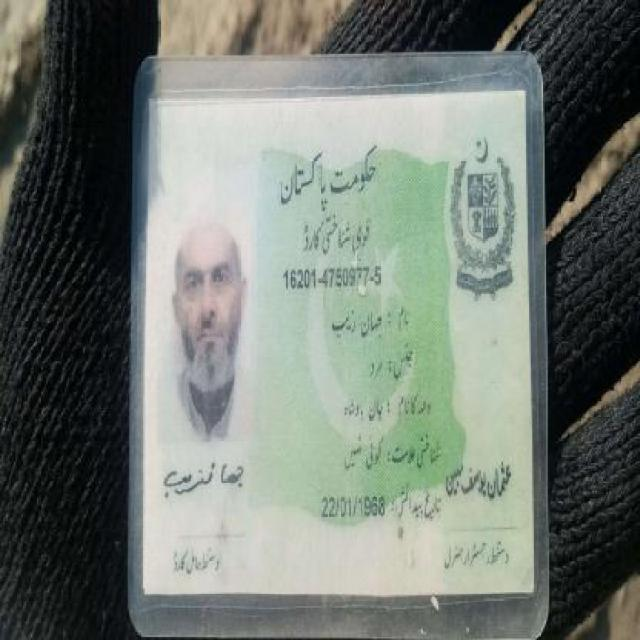Front: (132, 86, 545, 617)
